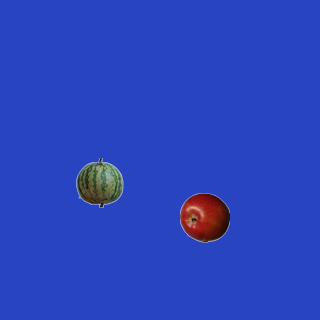Apple Braeburn: (179, 192, 229, 242)
Watermelon: (74, 157, 124, 207)
